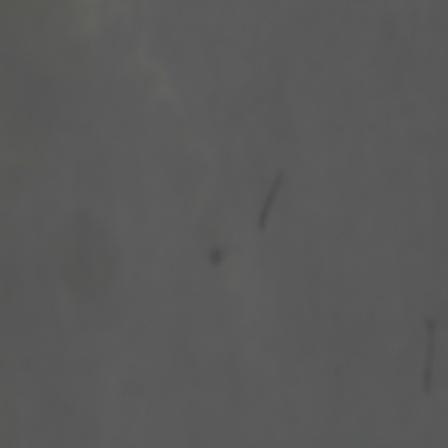Jentik-Nyamuk: (254, 166, 294, 237)
